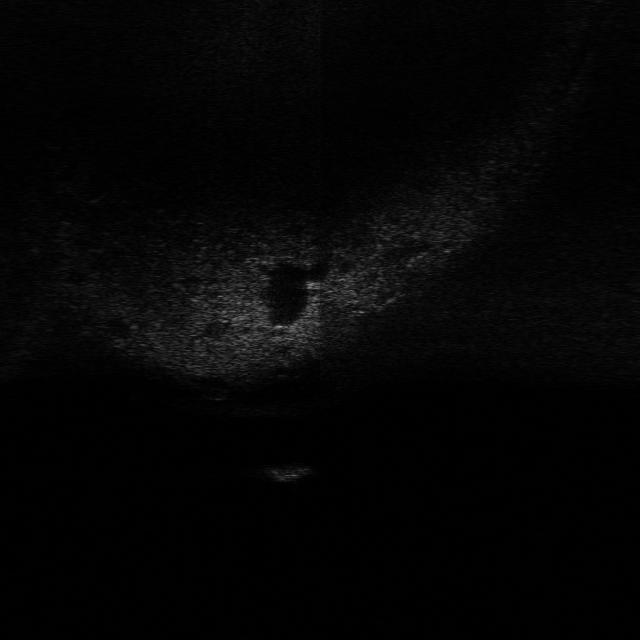cube: (260, 460, 314, 485)
